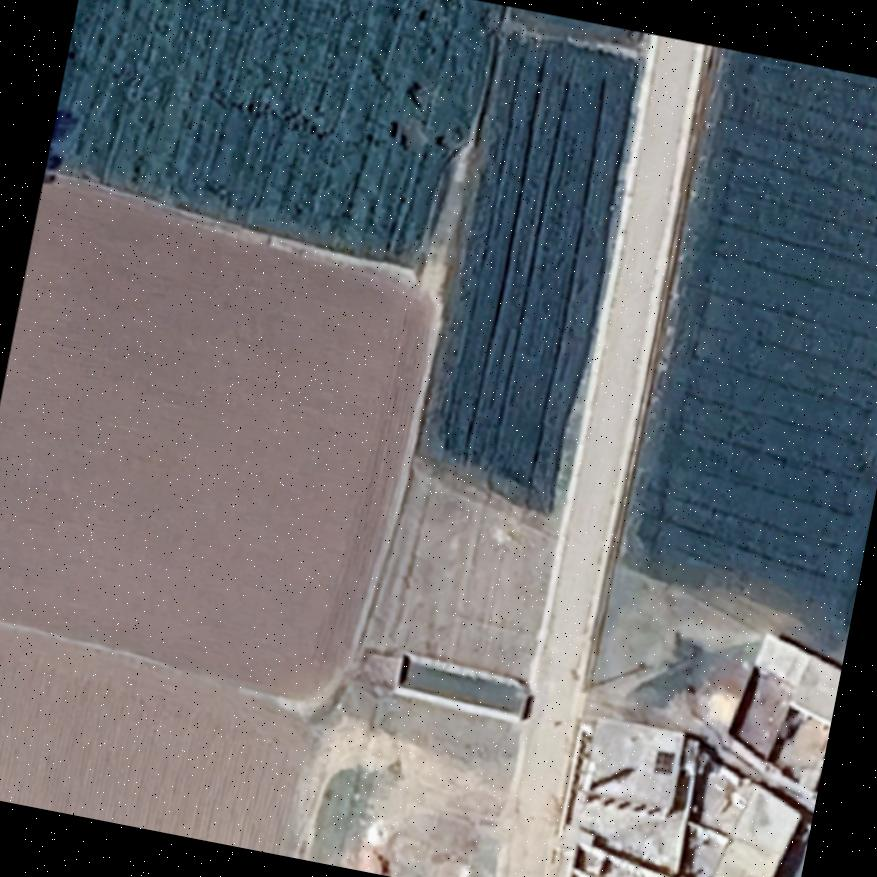Solarpanel: (650, 745, 677, 778)
